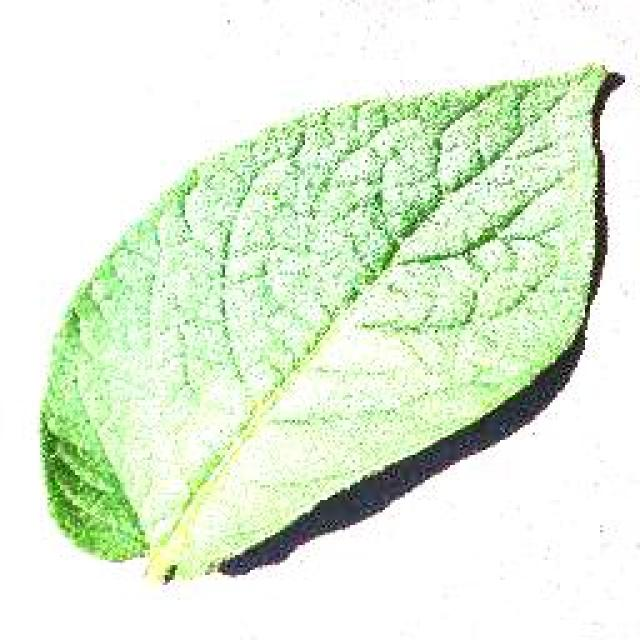Potato___healthy: (36, 54, 613, 586)
